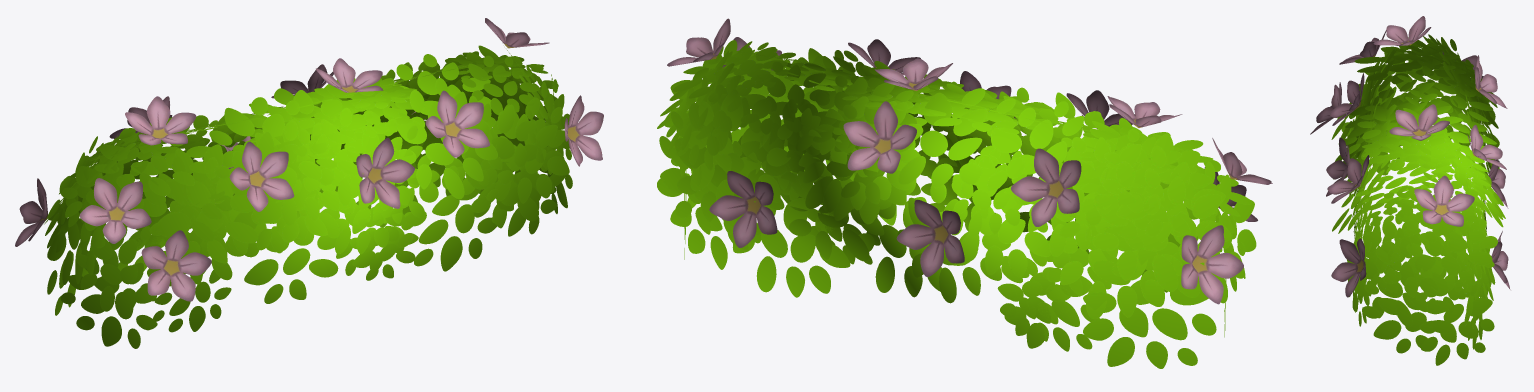
File: bush_small_flowers.glb
3 views of the same model, side by side, from view 1: azimuth 30°, elevation 25°; view 2: azimuth 150°, elevation 25°; view 3: azimuth 270°, elevation 25° (orthographic). The views are drawn at different scales.
Parts seen in each view (by area): view 1: Bush_Small_Flowers; view 2: Bush_Small_Flowers; view 3: Bush_Small_Flowers.
Boxes of the visible parts, x1,y1,x2,y2 form: Bush_Small_Flowers: (15,18,603,348); Bush_Small_Flowers: (657,18,1272,368); Bush_Small_Flowers: (1310,16,1510,365).
Bounding box in the file's own units: 1.93 × 0.8168 × 0.7617.
2 materials, 2 textured.
